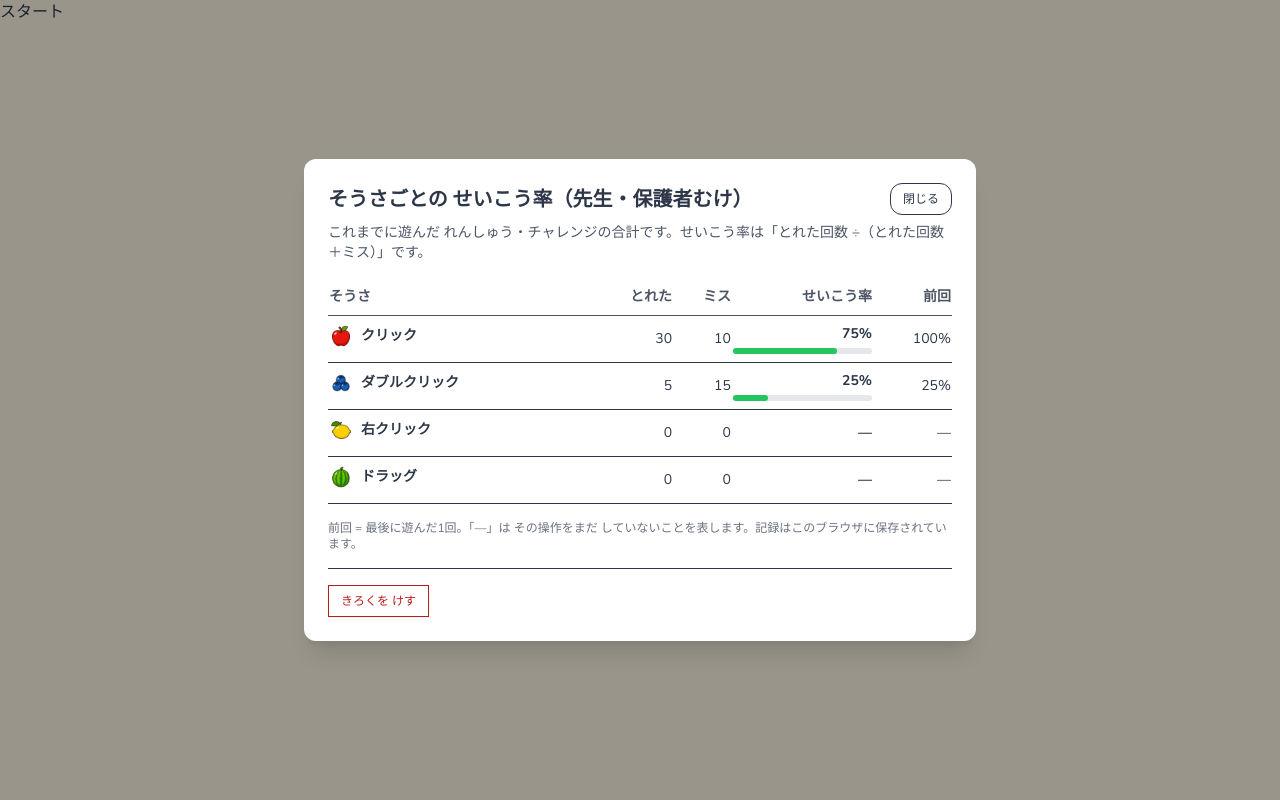
OperationReportModal: きろくを けす › RST-N-01: 押すと確認が出て、まだ消さない
The image size is (1280, 800).
# Given: 記録あり When: きろくを けす
Click the button "きろくを けす".
click(379, 601)  # box 328,585 -> 429,617
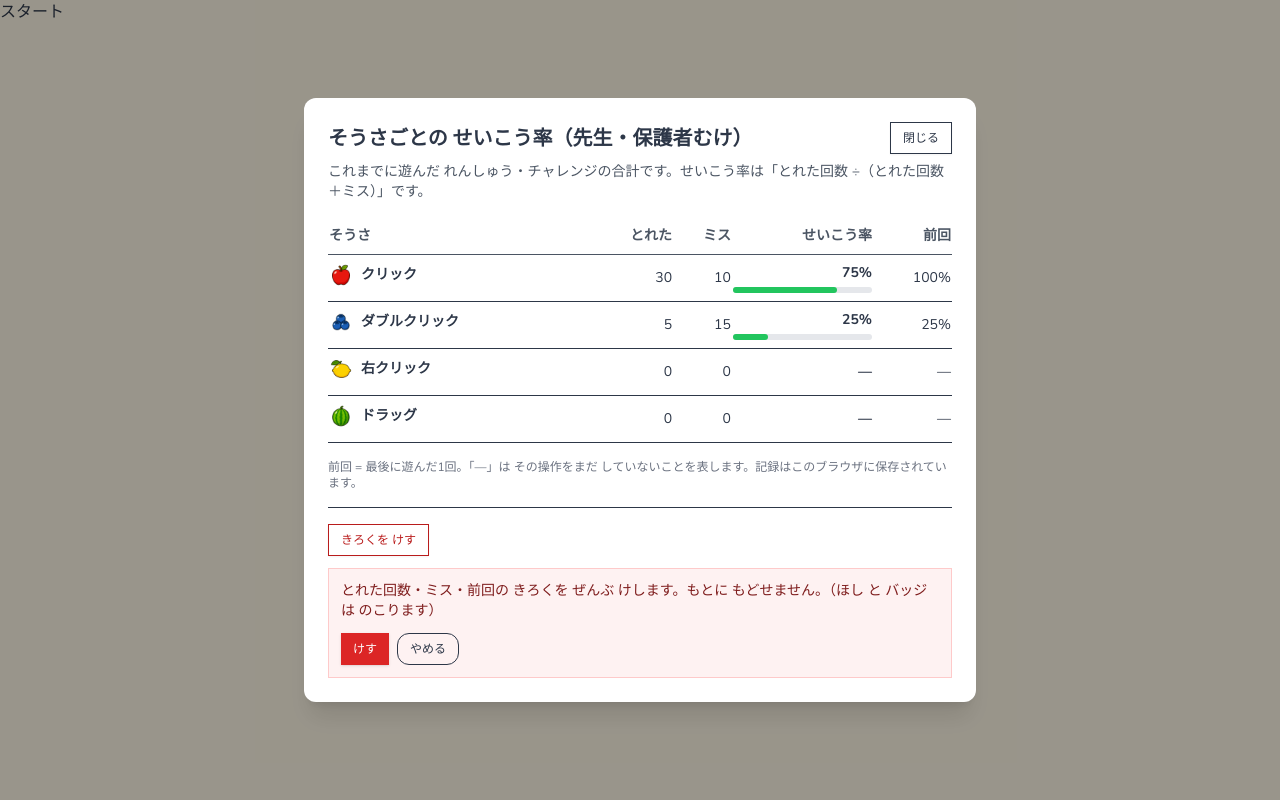
Expected: the text "とれた回数・ミス・前回の きろくを ぜんぶ けします。もとに もどせません。（ほし と バッジ は のこります）" is shown, 341,581 -> 939,621
